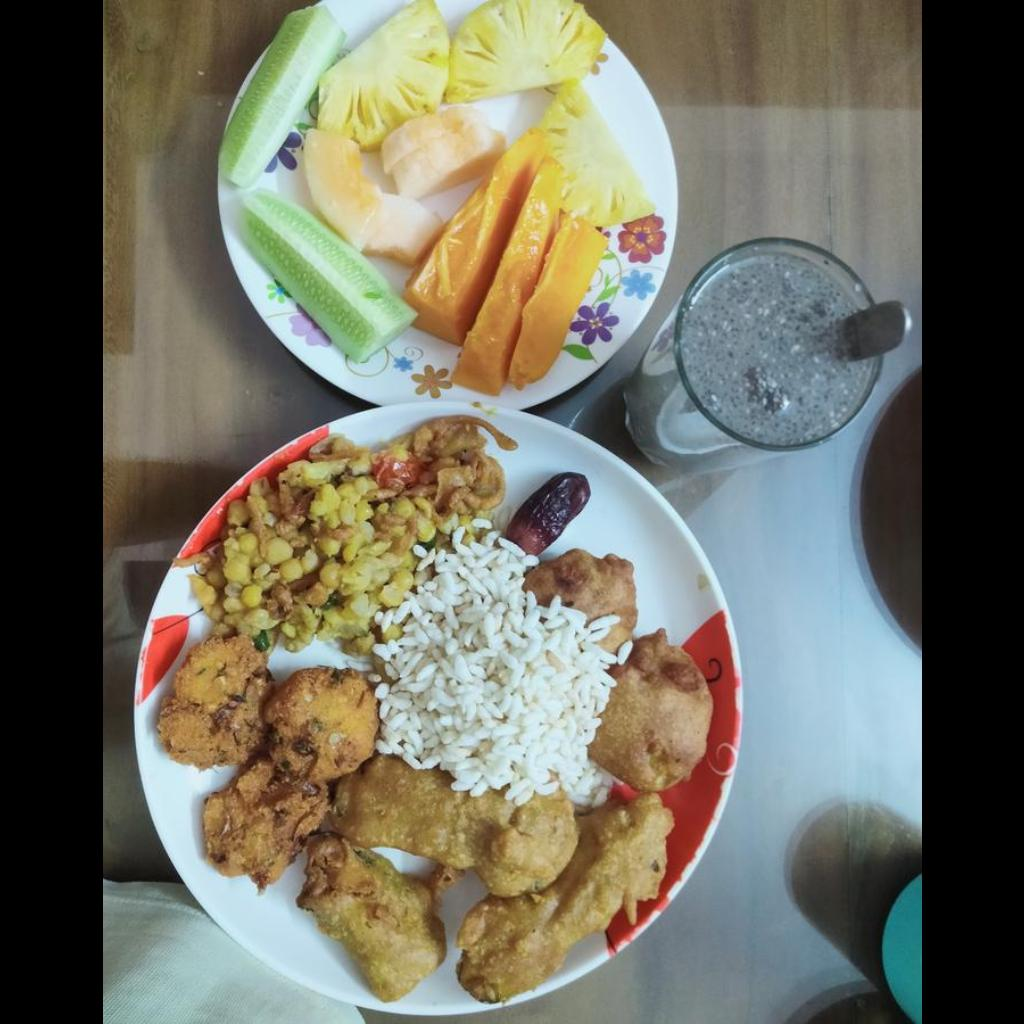beguni: (298, 772, 670, 1003)
burinda: (202, 445, 413, 637)
chop-alu: (536, 554, 714, 789)
cucumber: (222, 10, 412, 357)
dates: (496, 474, 591, 552)
juice: (672, 238, 880, 448)
mango: (417, 151, 599, 387)
papaya: (300, 98, 532, 267)
peyaju: (158, 642, 379, 875)
pineapple: (322, 5, 651, 224)
puffed-rice: (383, 543, 605, 787)
